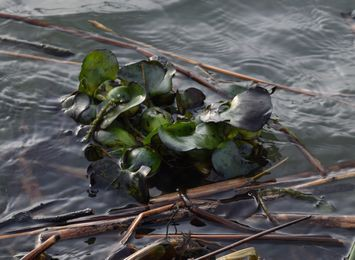water_hyacinth: (46, 33, 292, 203)
